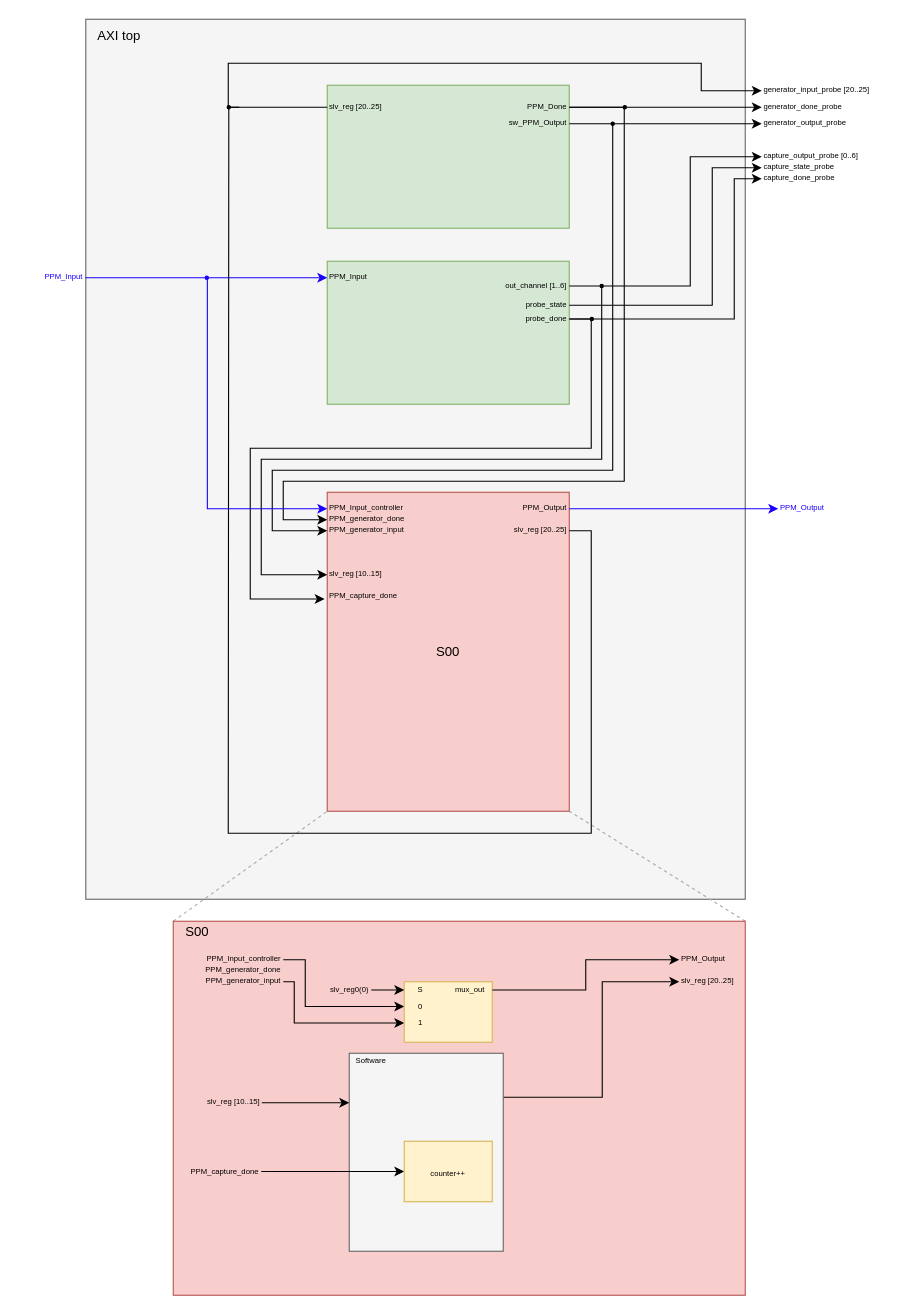
Some shapes in this 912 by 1315 pixel diagram are drawn without their labels. The box of each missing label's shape, as (x1, y1, x2, y2) in pixels:
PPM capture: (326, 260, 569, 404)
PPM generate: (326, 84, 569, 228)
